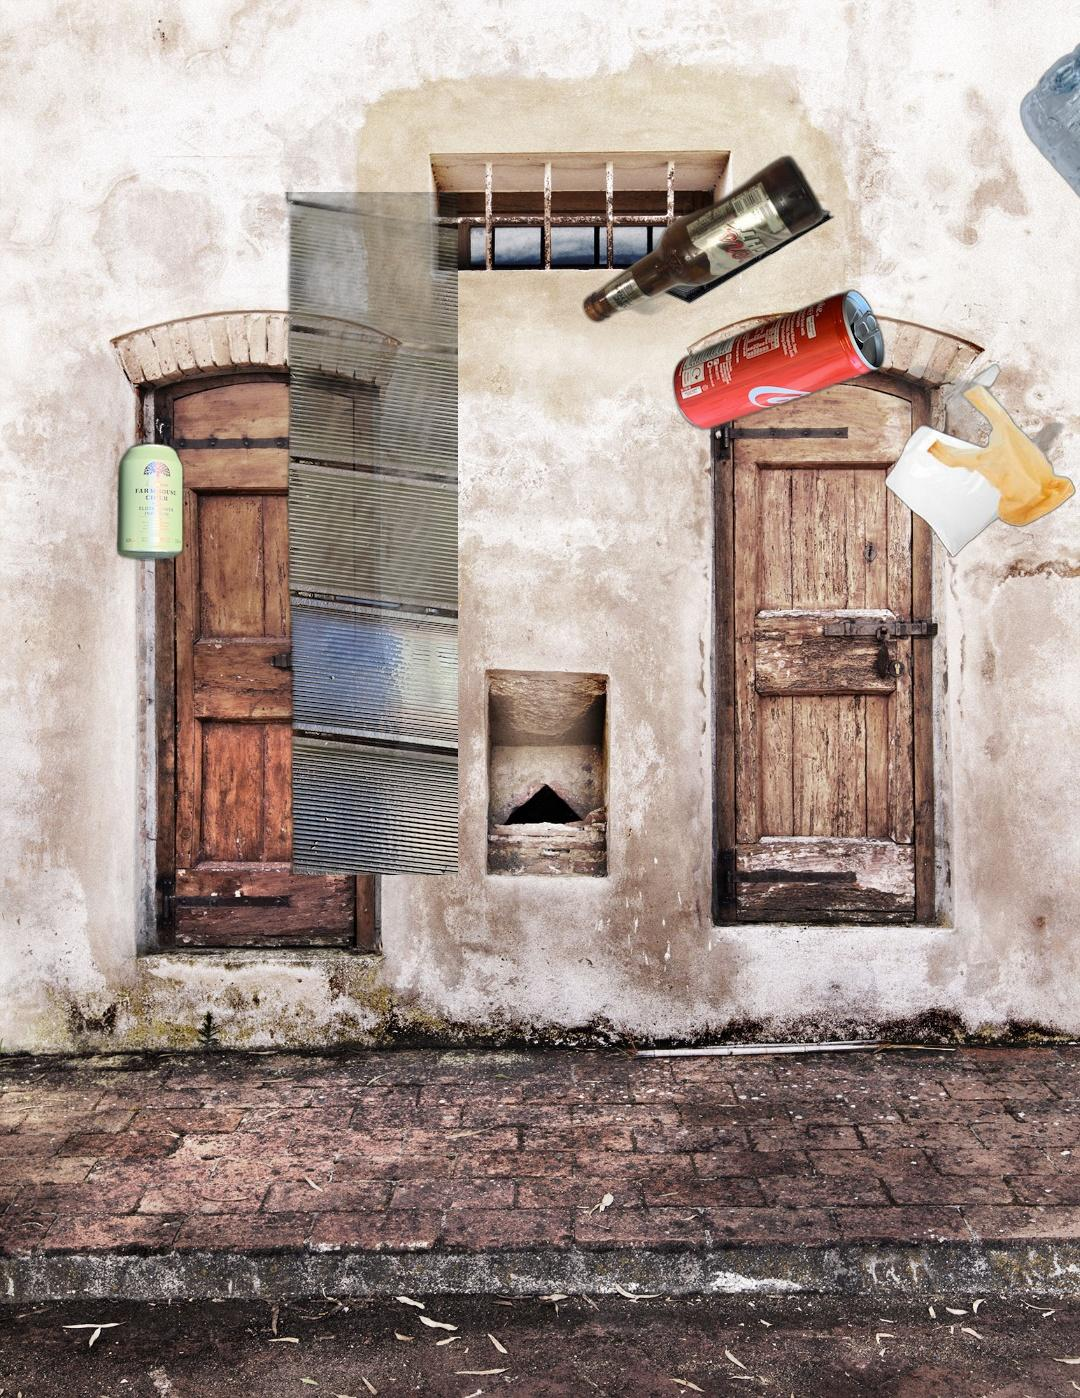battery: (638, 199, 837, 306)
glass: (577, 153, 829, 326)
metal-cans: (112, 192, 458, 875), (669, 283, 889, 435)
plastic-bag: (881, 359, 1078, 561)
plastic-bottles: (1016, 33, 1080, 315)
